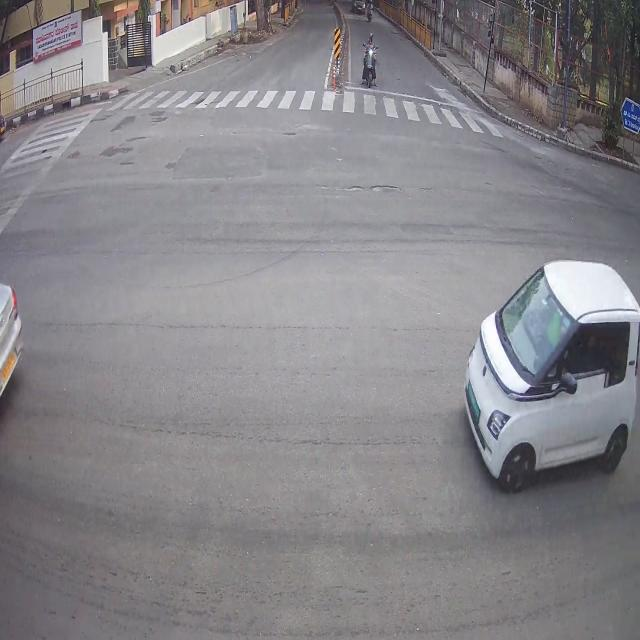Car: (0, 286, 24, 403)
Two-wheelers: (476, 265, 631, 489), (362, 47, 378, 89)
